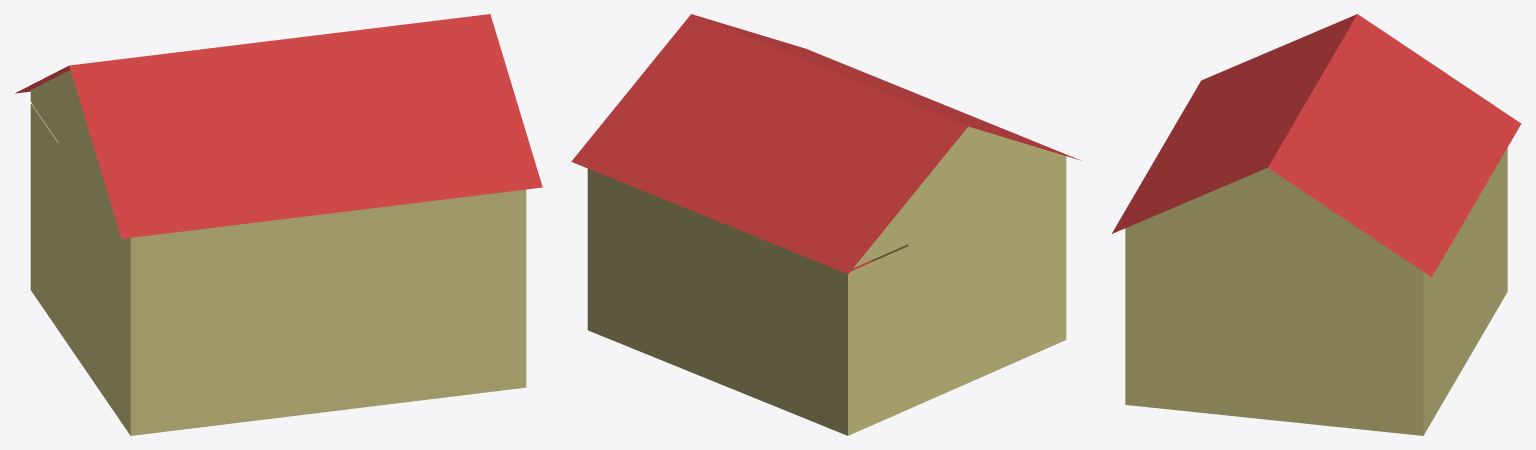
The picture shows the model from 3 angles, left to right: view 1: azimuth 30°, elevation 25°; view 2: azimuth 150°, elevation 25°; view 3: azimuth 270°, elevation 25°; orthographic projection. The views are drawn at different scales.
Size of the model in its own units: 19.52 by 18.08 by 12.5.
